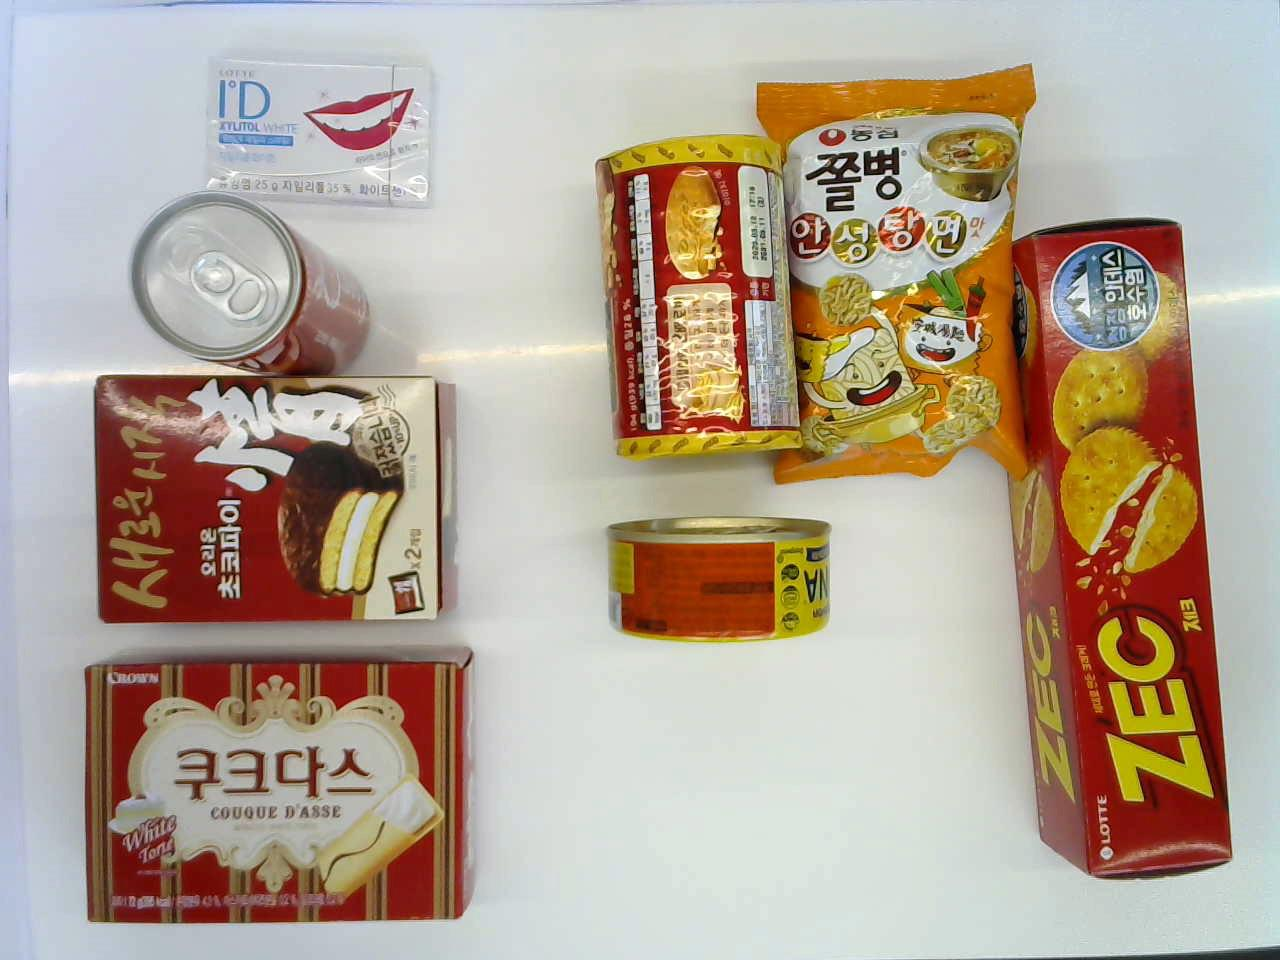ID_gum: (196, 36, 445, 209)
chocopie: (78, 368, 465, 629)
coke: (135, 199, 377, 375)
couque_white: (78, 652, 482, 928)
diget_ori: (594, 129, 804, 482)
jjolbyung_noodle: (771, 52, 1046, 493)
tuna: (580, 506, 842, 635)
zec: (1007, 209, 1230, 891)
